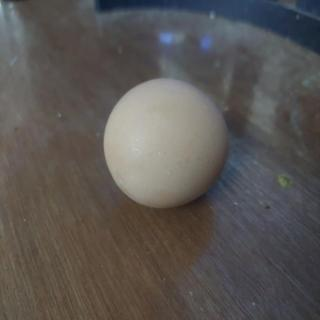Telur: (101, 75, 235, 213)
